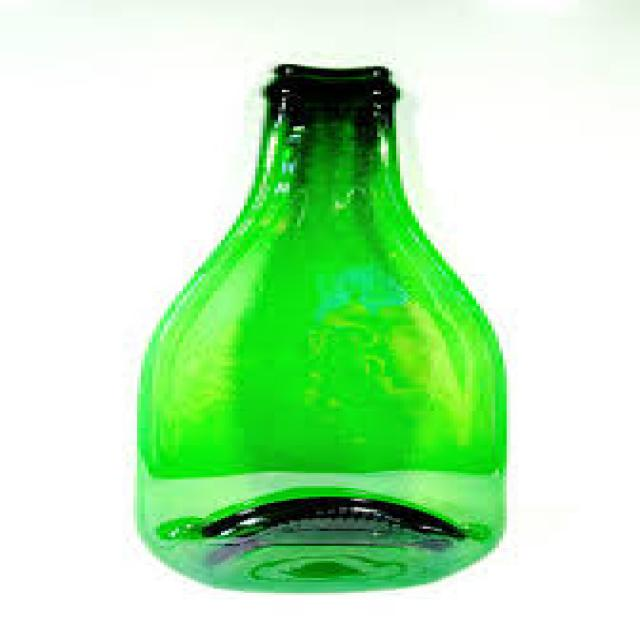glass: (129, 62, 503, 589)
